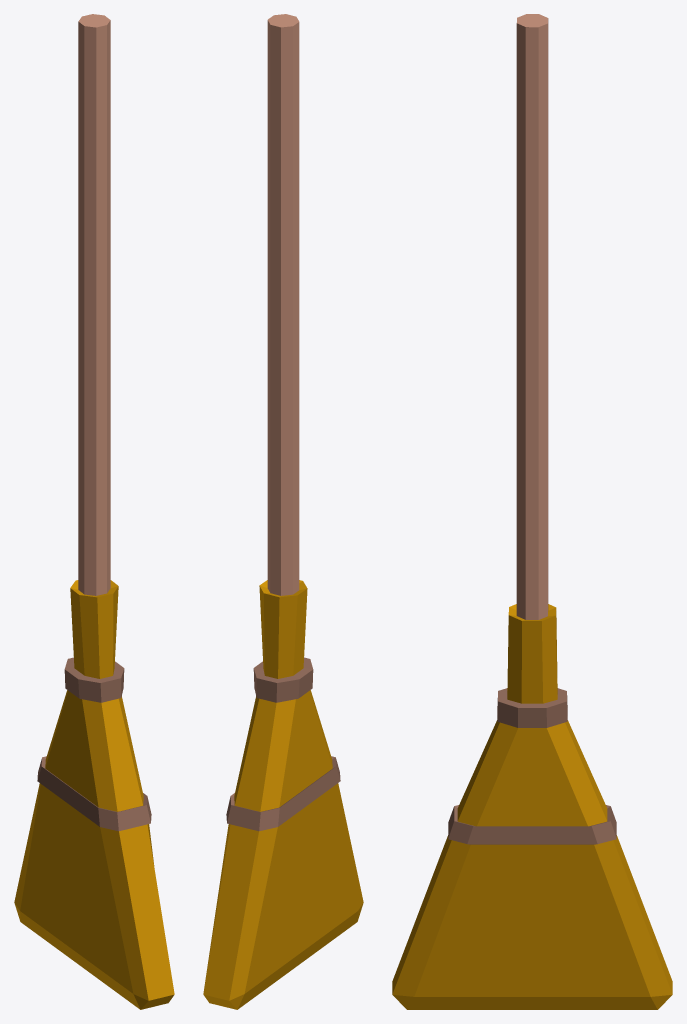
Rendered from Broom.fbx.
The picture shows the model from 3 angles, left to right: view 1: azimuth 30°, elevation 25°; view 2: azimuth 150°, elevation 25°; view 3: azimuth 270°, elevation 25°; orthographic projection. The views are drawn at different scales.
Visible parts, largest first — view 1: Broom; view 2: Broom; view 3: Broom.
Part boxes in pixels (x1=…): Broom: x1=14, y1=14, x2=174, y2=1009; Broom: x1=203, y1=14, x2=363, y2=1009; Broom: x1=392, y1=14, x2=672, y2=1009.
Size of the model in its own units: 8.16 by 142 by 36.79.
